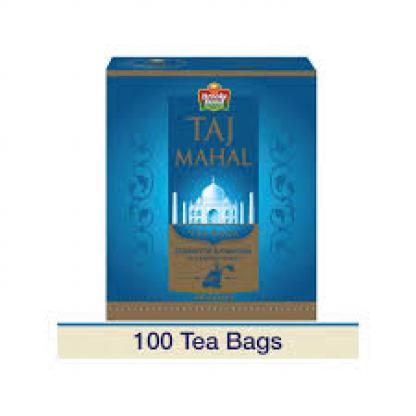CARDBOARD: (104, 54, 314, 318)
